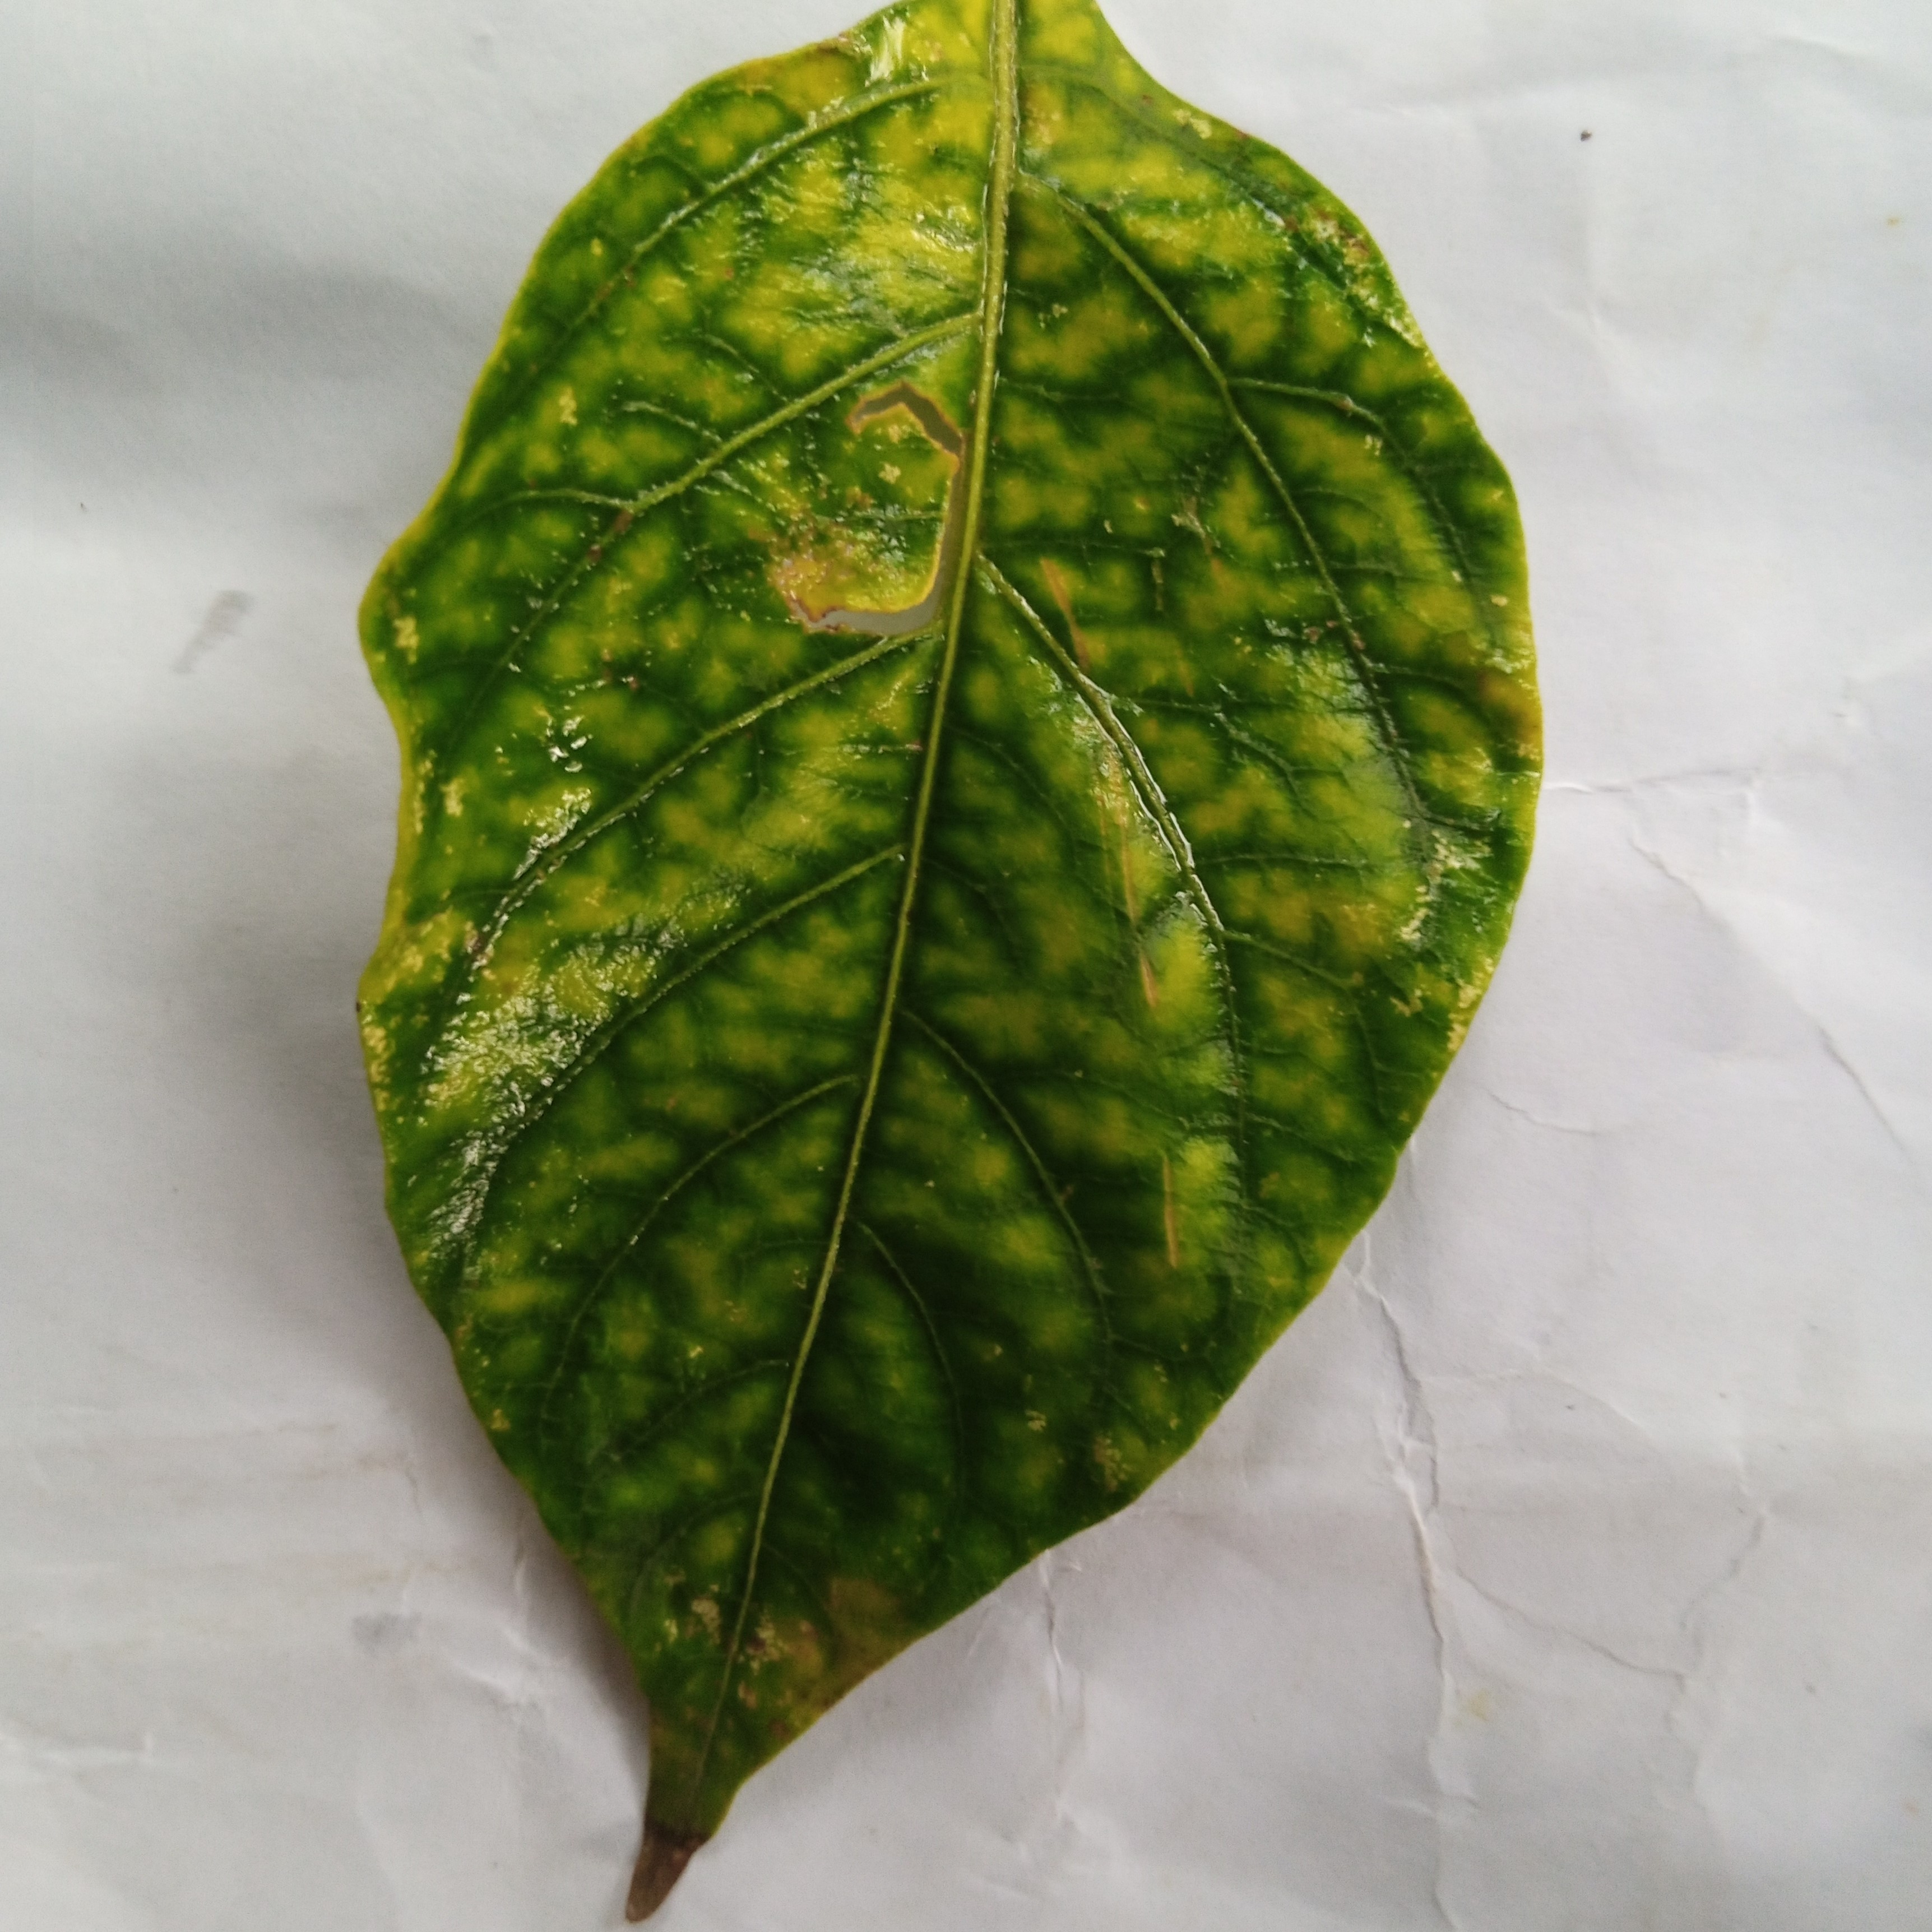Leaf: (251, 12, 1614, 1932)
